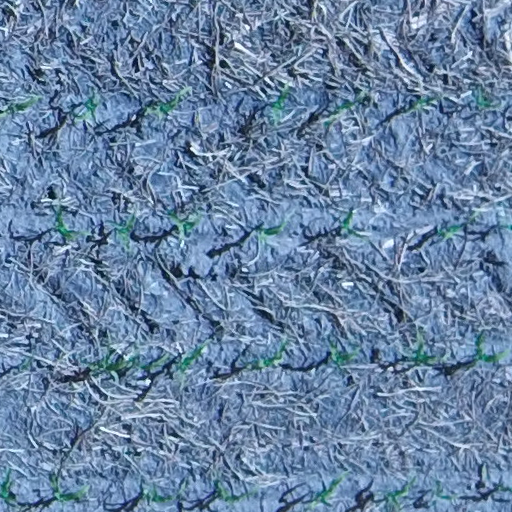planta: (77, 342, 130, 382), (320, 88, 367, 129), (402, 330, 450, 368), (241, 336, 291, 372), (141, 85, 192, 120), (51, 203, 93, 243), (164, 206, 204, 247), (171, 339, 210, 381), (47, 471, 91, 507), (211, 476, 260, 507), (107, 211, 138, 254), (266, 80, 294, 127), (326, 338, 363, 373), (69, 86, 102, 125), (252, 217, 289, 246), (337, 207, 367, 242), (138, 483, 178, 506), (132, 352, 172, 373), (430, 478, 459, 503), (469, 86, 496, 111), (405, 94, 438, 114), (433, 221, 465, 241)
